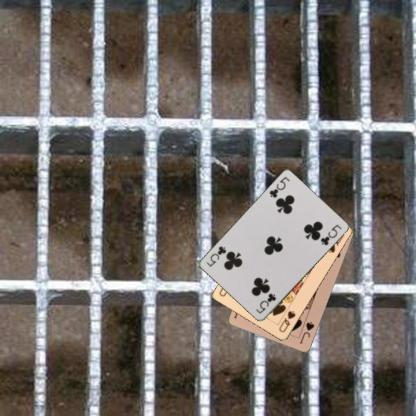5c: (267, 174, 291, 200), (253, 291, 277, 315)
Js: (297, 319, 315, 345)
Qs: (276, 308, 297, 334)
